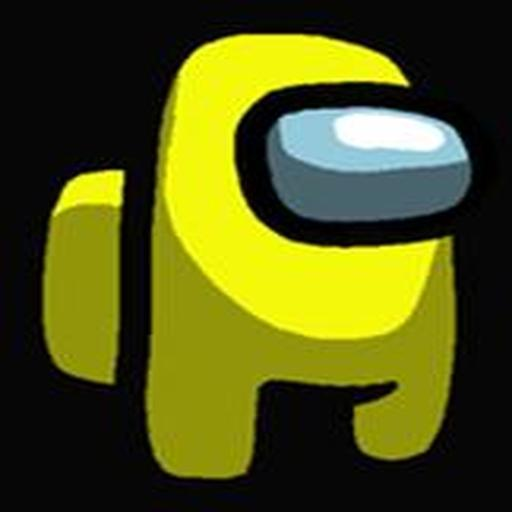Crewmate: (42, 28, 483, 477)
